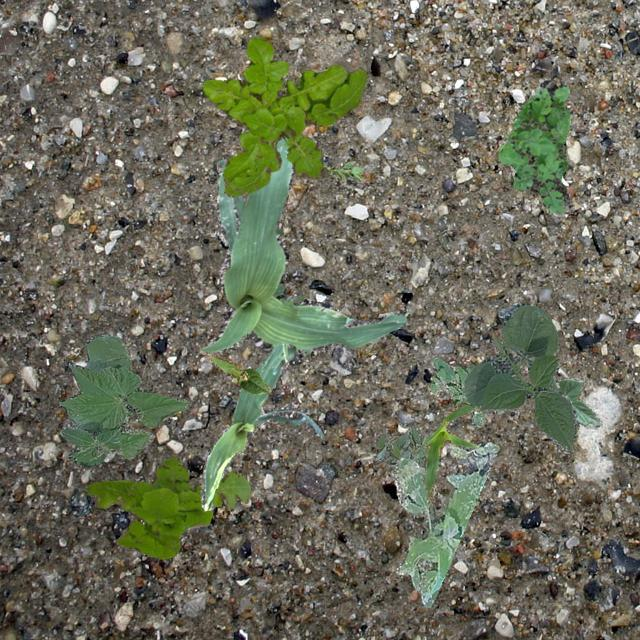crop: (200, 134, 408, 353), (200, 342, 322, 509), (58, 334, 190, 464), (464, 302, 576, 452), (421, 402, 477, 506), (524, 358, 602, 432), (204, 352, 270, 393)
weed: (202, 35, 368, 196), (392, 442, 498, 606), (86, 456, 250, 558), (497, 78, 572, 212), (426, 356, 520, 426), (372, 424, 428, 466), (322, 160, 364, 183)
